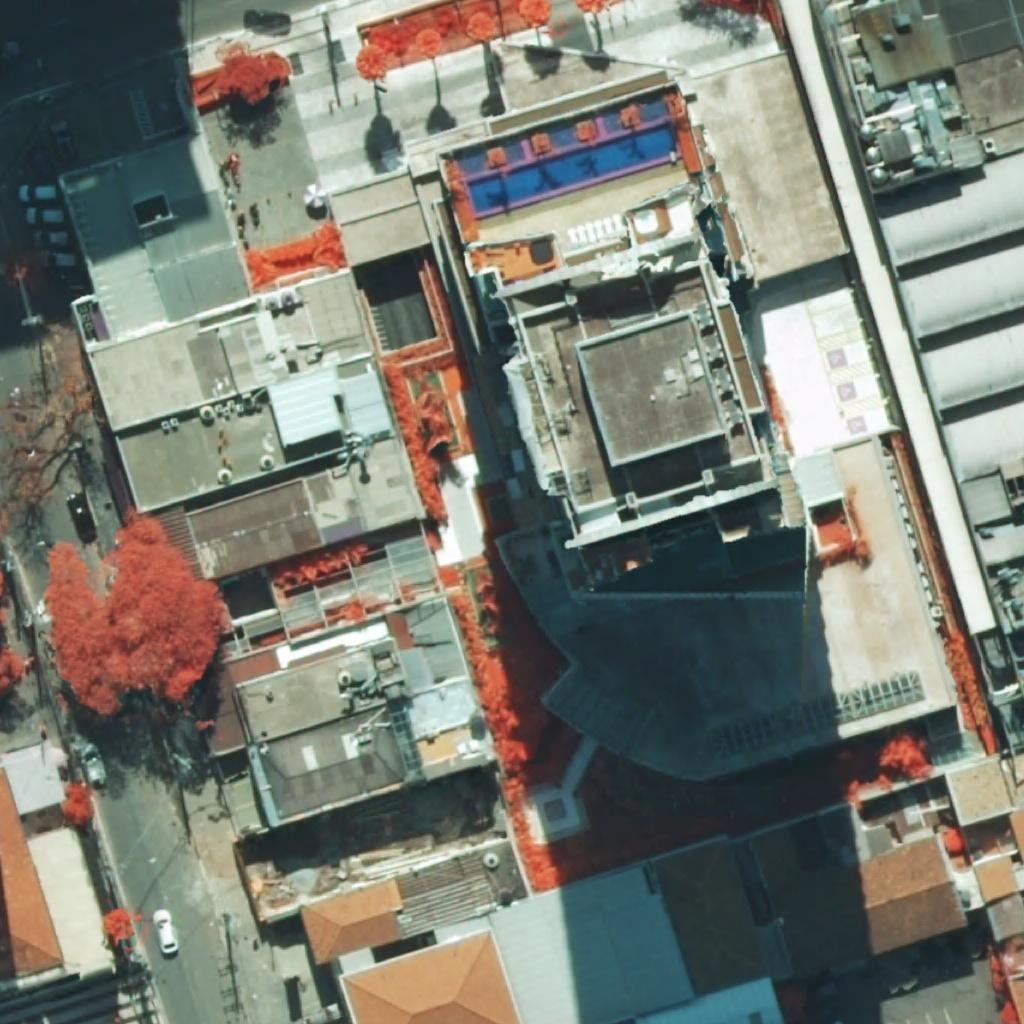pool: (467, 121, 678, 213)
